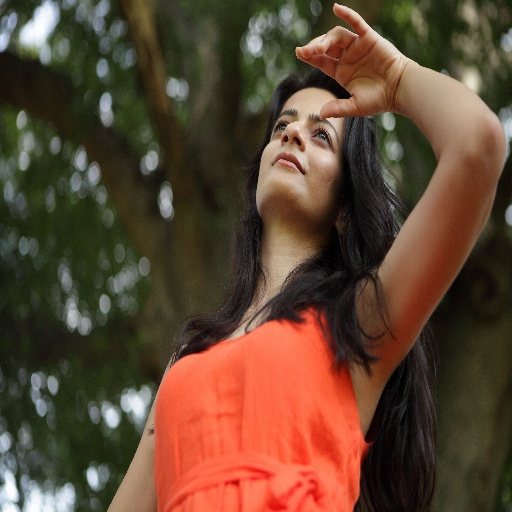hand: (294, 12, 395, 107)
